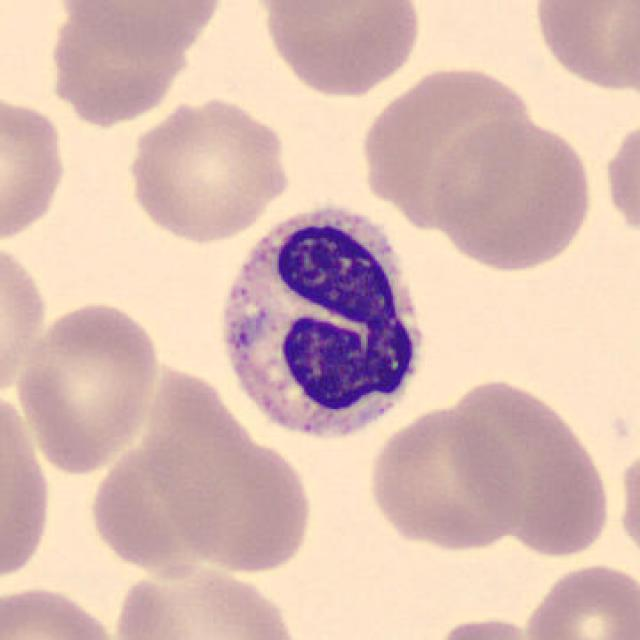Neutrophil: (203, 196, 432, 455)
RBC: (441, 362, 609, 561), (356, 58, 535, 229), (10, 296, 162, 476), (427, 115, 597, 273), (121, 92, 293, 245), (364, 404, 526, 554), (156, 430, 318, 578), (88, 441, 230, 569), (46, 8, 200, 125), (252, 0, 426, 100), (106, 555, 308, 640), (0, 379, 55, 596), (0, 90, 71, 245), (526, 0, 638, 97), (51, 0, 228, 58), (519, 559, 638, 640), (0, 234, 52, 406), (0, 582, 126, 640), (601, 112, 638, 248), (613, 439, 640, 569), (423, 613, 553, 640), (246, 0, 404, 21)
